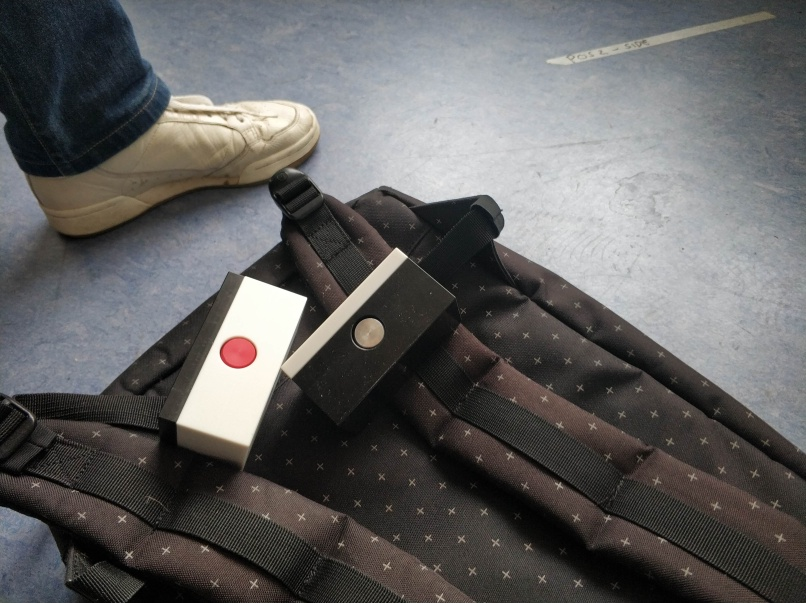black+white+red: (156, 267, 310, 475)
white+black+silver: (279, 243, 464, 429)
